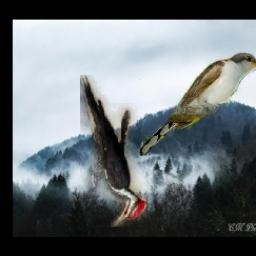Cuckoo: (136, 51, 256, 157)
Woodpecker: (81, 76, 147, 228)
